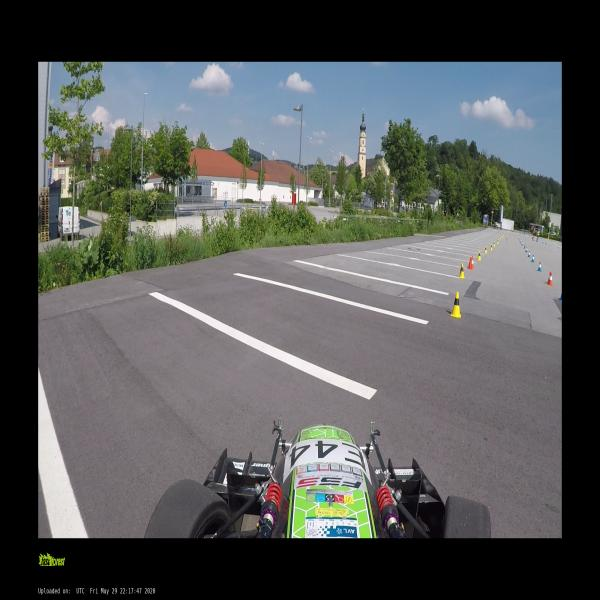blue_cone: (538, 262, 542, 272), (560, 289, 562, 301), (528, 251, 531, 258), (532, 254, 534, 263), (526, 247, 528, 252), (521, 241, 523, 245), (524, 243, 525, 249), (520, 239, 521, 243)
orange_cone: (549, 272, 553, 286), (468, 257, 472, 270), (471, 255, 474, 268), (548, 271, 551, 283)
yellow_cone: (450, 292, 462, 318), (458, 263, 464, 278), (477, 251, 481, 260), (483, 246, 487, 254), (490, 243, 492, 251), (494, 241, 496, 247), (499, 235, 501, 240), (497, 239, 498, 245), (497, 236, 498, 241), (502, 234, 502, 238)
